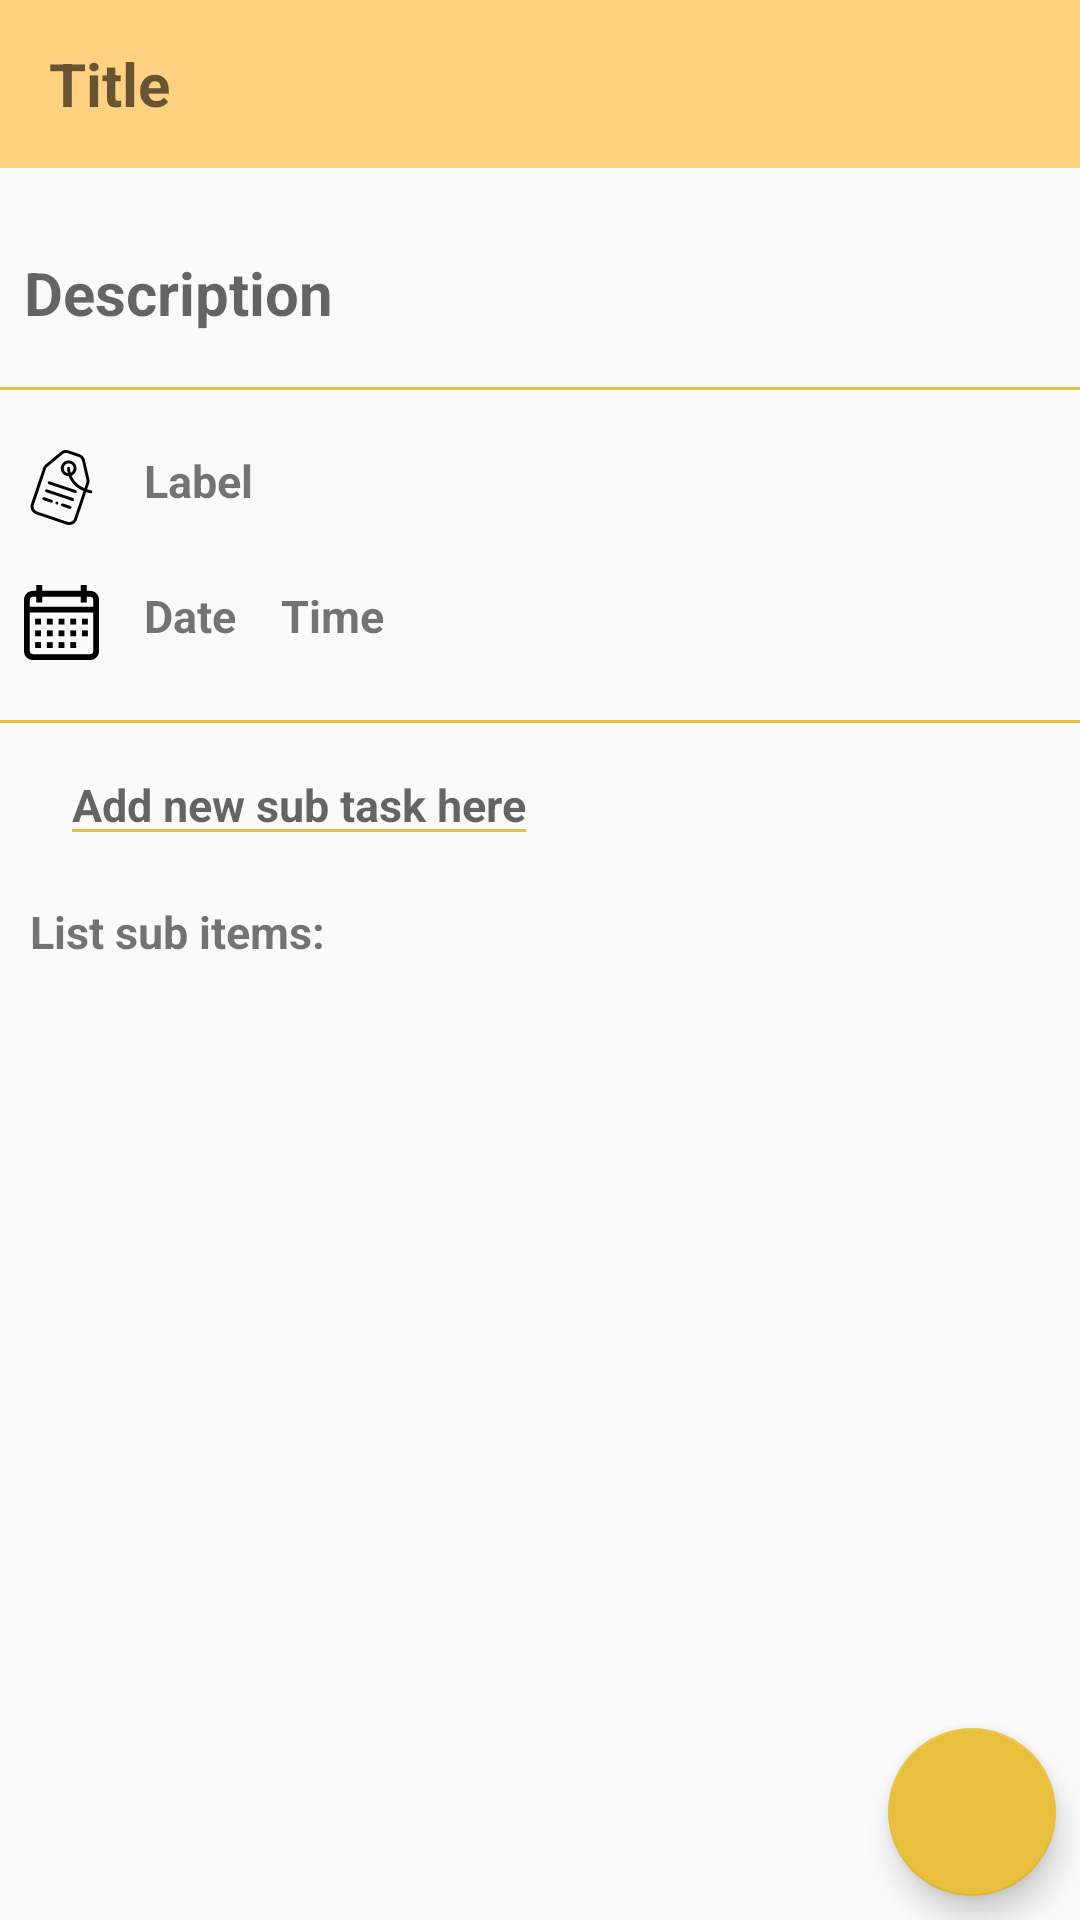

Screen size 1080 × 1920. Icon name, then its box in pixels as (left=x1, top=y1, right=x2, bottom=y2):
calendar: (left=24, top=585, right=99, bottom=660)
